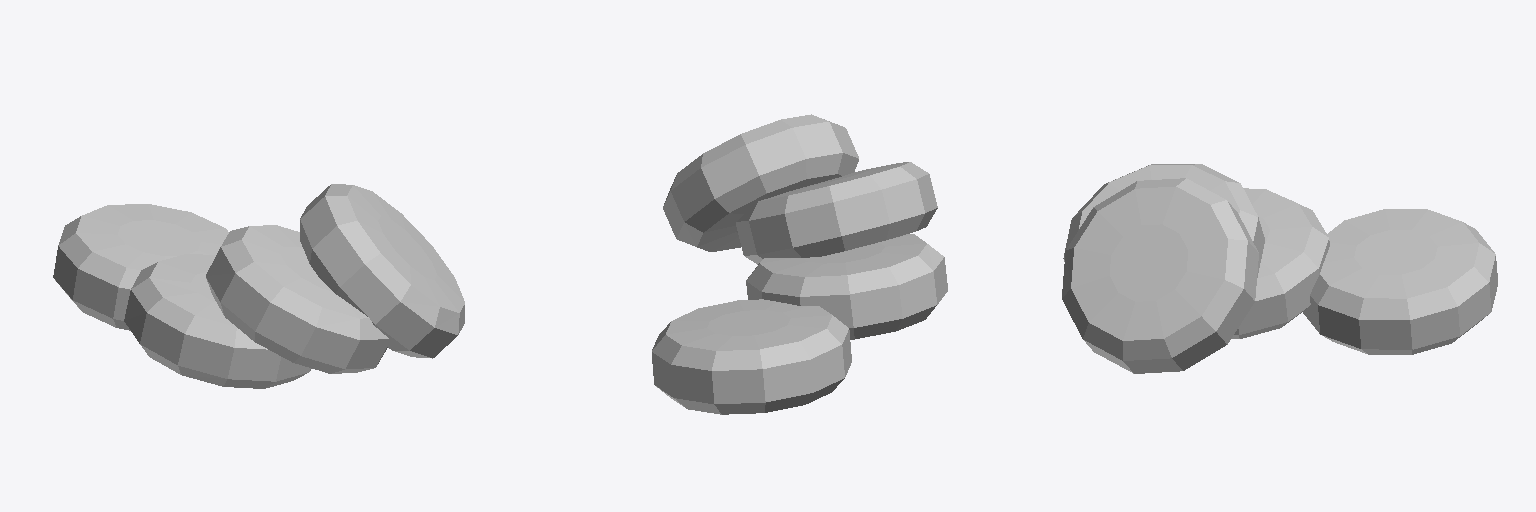
The model's file is food_ingredient_carrot_pieces.obj.
3 renders of one model, left to right at view 1: azimuth 30°, elevation 25°; view 2: azimuth 150°, elevation 25°; view 3: azimuth 270°, elevation 25°, orthographic.
Parts seen in each view (by area): view 1: food_ingredient_carrot_pieces_Cylinder.1025; view 2: food_ingredient_carrot_pieces_Cylinder.1025; view 3: food_ingredient_carrot_pieces_Cylinder.1025.
Part boxes in pixels (x1,y1,x2,y2): food_ingredient_carrot_pieces_Cylinder.1025: (53,184,464,388); food_ingredient_carrot_pieces_Cylinder.1025: (652,114,947,414); food_ingredient_carrot_pieces_Cylinder.1025: (1062,164,1497,373).
Bounding box in the file's own units: 0.543 × 0.3226 × 0.7191.